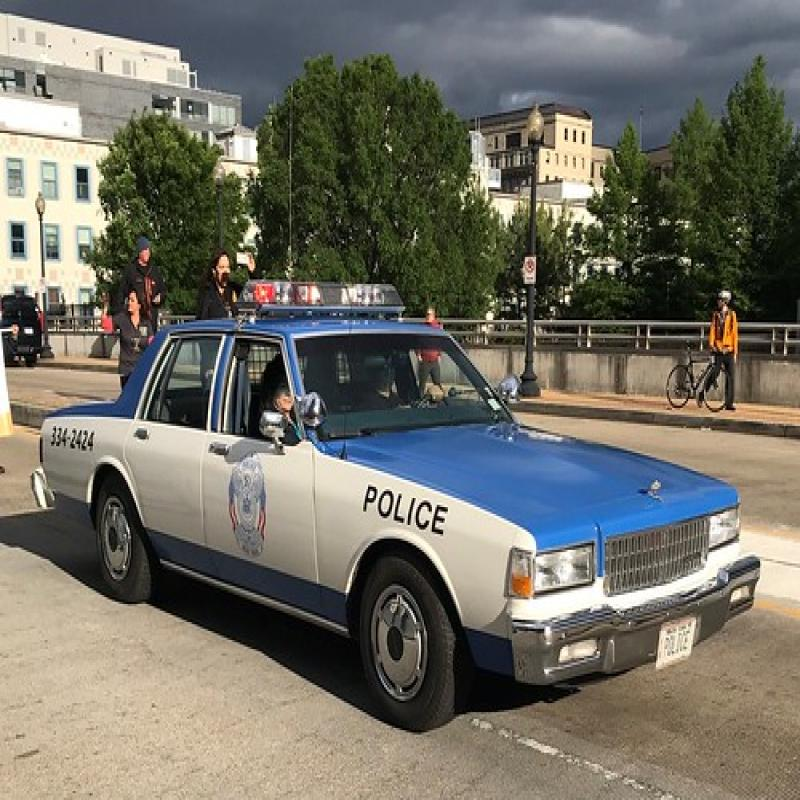AmbulanceSiren: (237, 274, 410, 326)
